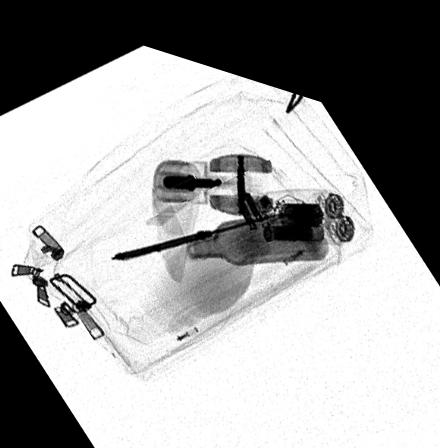Knife: (109, 193, 280, 253)
